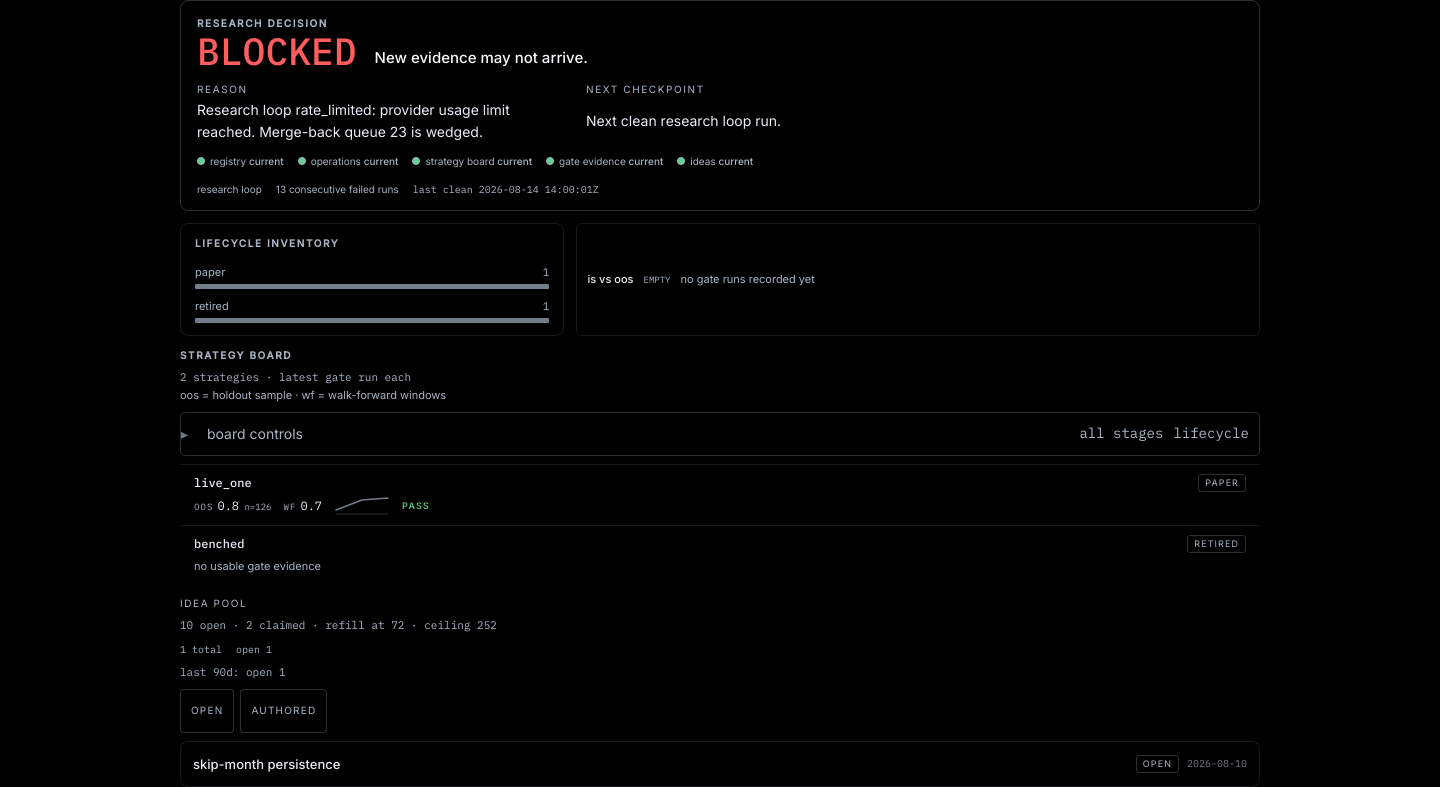
keeps the funnel count strip separate from the board filters
Expected: the heading "strategy board" is shown, [180,349,292,361]
Click the button "board controls all stages lifecycle".
click(255, 433)  # box [180,412,1260,456]
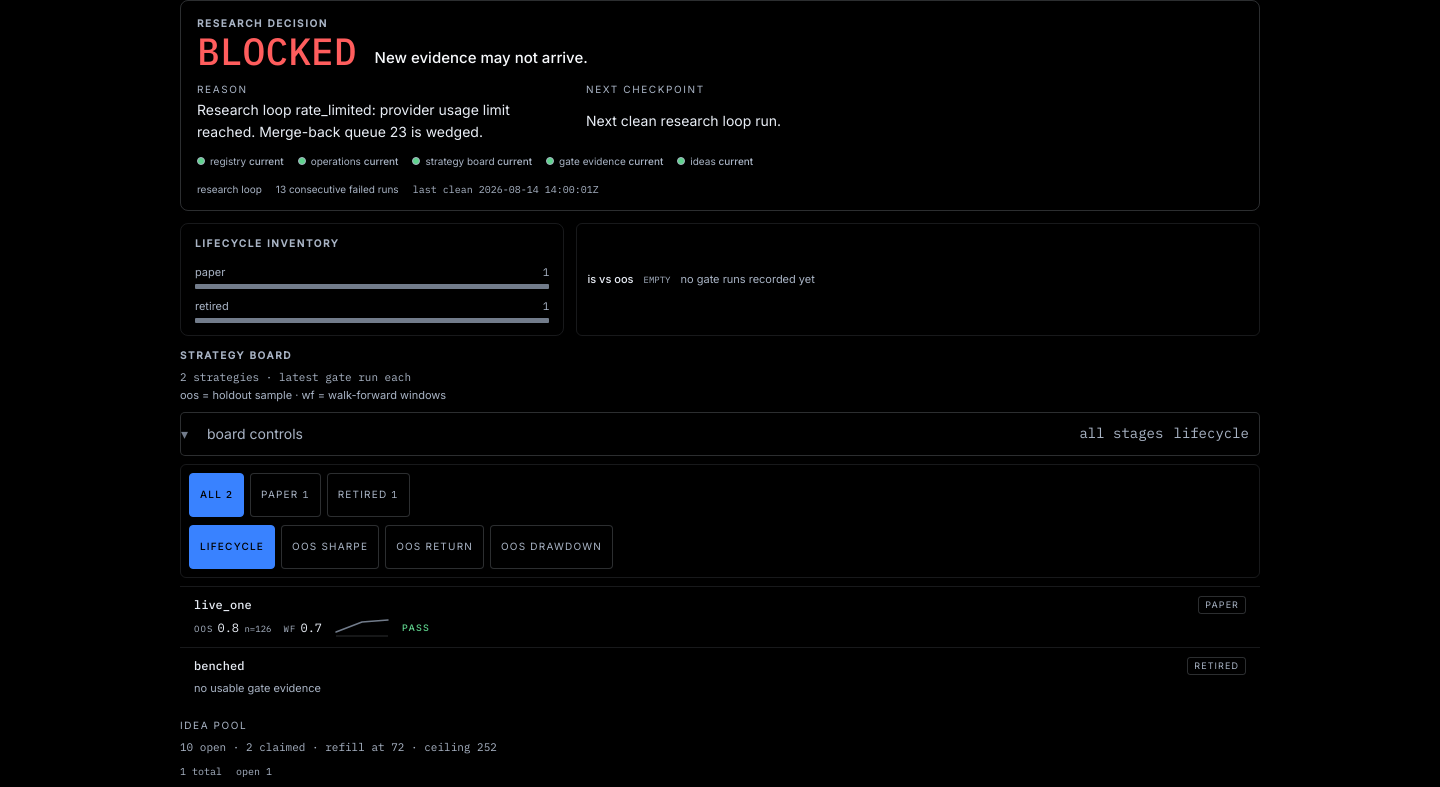
Expected: the heading "lifecycle inventory" is shown, [195,237,339,249]
Result: the button "paper 1" is shown at [250,473,321,517]
Result: the button "retired 1" is shown at [327,473,410,517]
